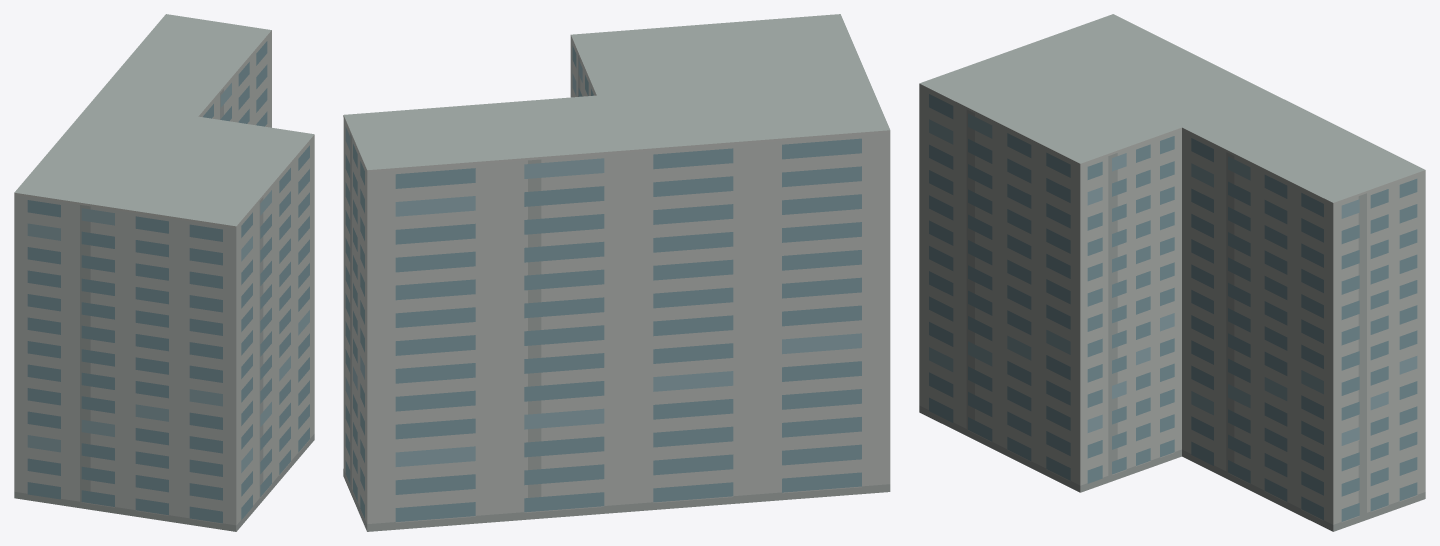
Rendered from residential-b57634c3-6996-45f2-8bee-3e33e74eef69.glb.
3 views of the same model, side by side, from view 1: azimuth 30°, elevation 25°; view 2: azimuth 150°, elevation 25°; view 3: azimuth 270°, elevation 25° (orthographic). The views are drawn at different scales.
Parts seen in each view (by area): view 1: residential-b57634c3-6996-45f2-8bee-3e33e74eef69.tmp; view 2: residential-b57634c3-6996-45f2-8bee-3e33e74eef69.tmp; view 3: residential-b57634c3-6996-45f2-8bee-3e33e74eef69.tmp.
Part boxes in pixels (<box>): residential-b57634c3-6996-45f2-8bee-3e33e74eef69.tmp: <box>14,14,314,531</box>; residential-b57634c3-6996-45f2-8bee-3e33e74eef69.tmp: <box>343,14,890,531</box>; residential-b57634c3-6996-45f2-8bee-3e33e74eef69.tmp: <box>919,14,1425,531</box>.
Bounding box in the file's own units: 43.14 × 35 × 48.85.
